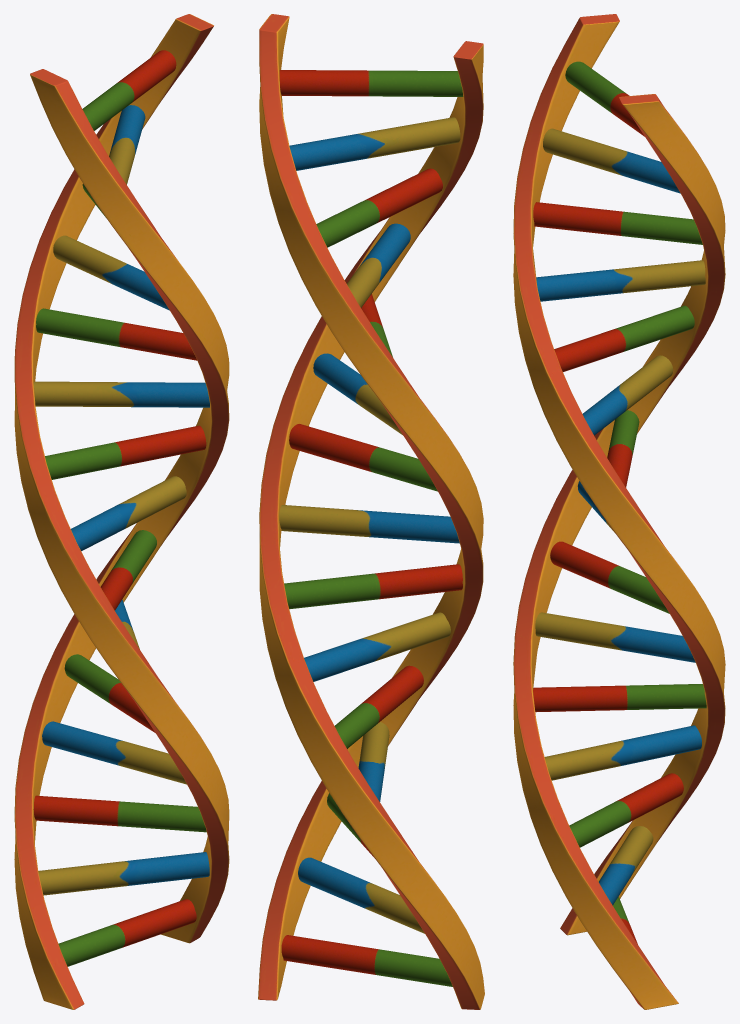
File: DNA.fbx
3 renders of one model, left to right at view 1: azimuth 30°, elevation 25°; view 2: azimuth 150°, elevation 25°; view 3: azimuth 270°, elevation 25°, orthographic. The views are drawn at different scales.
Visible parts, largest first — view 1: root; view 2: root; view 3: root.
Part boxes in pixels (x1,y1,x2,y2): root: [14, 14, 229, 1009]; root: [258, 14, 484, 1009]; root: [513, 14, 725, 1009].
Size of the model in its own units: 0.2043 by 0.9531 by 0.202.
1 material, 1 textured.
